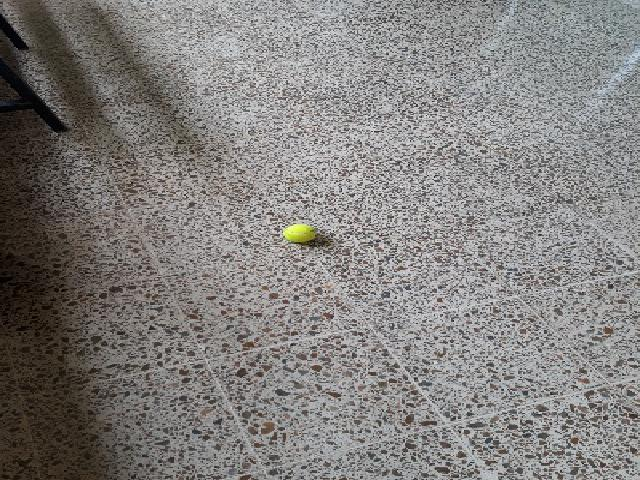Ball: (285, 222, 315, 242)
